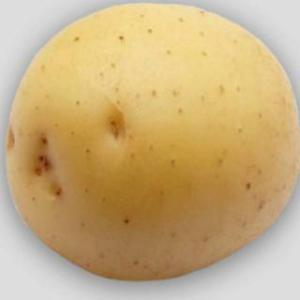potato: (4, 5, 296, 278)
